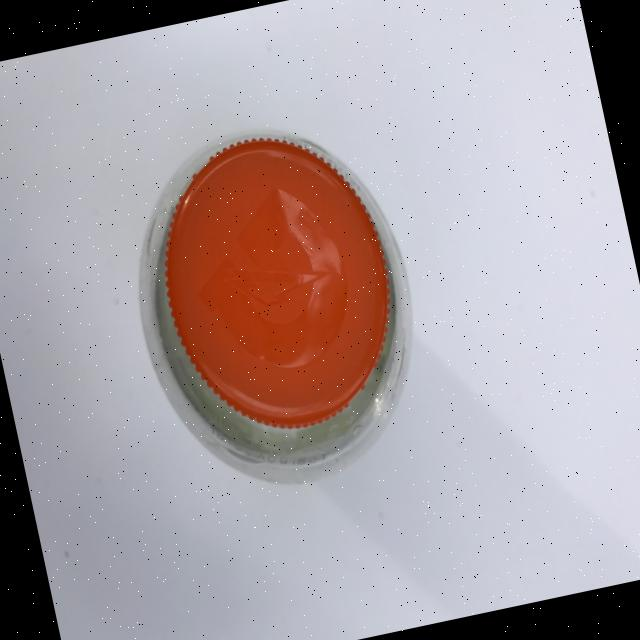plastic: (108, 106, 444, 508)
